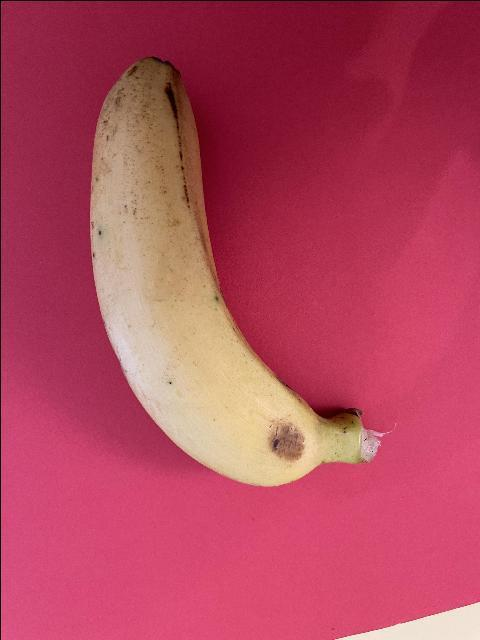banana: (88, 56, 380, 488)
